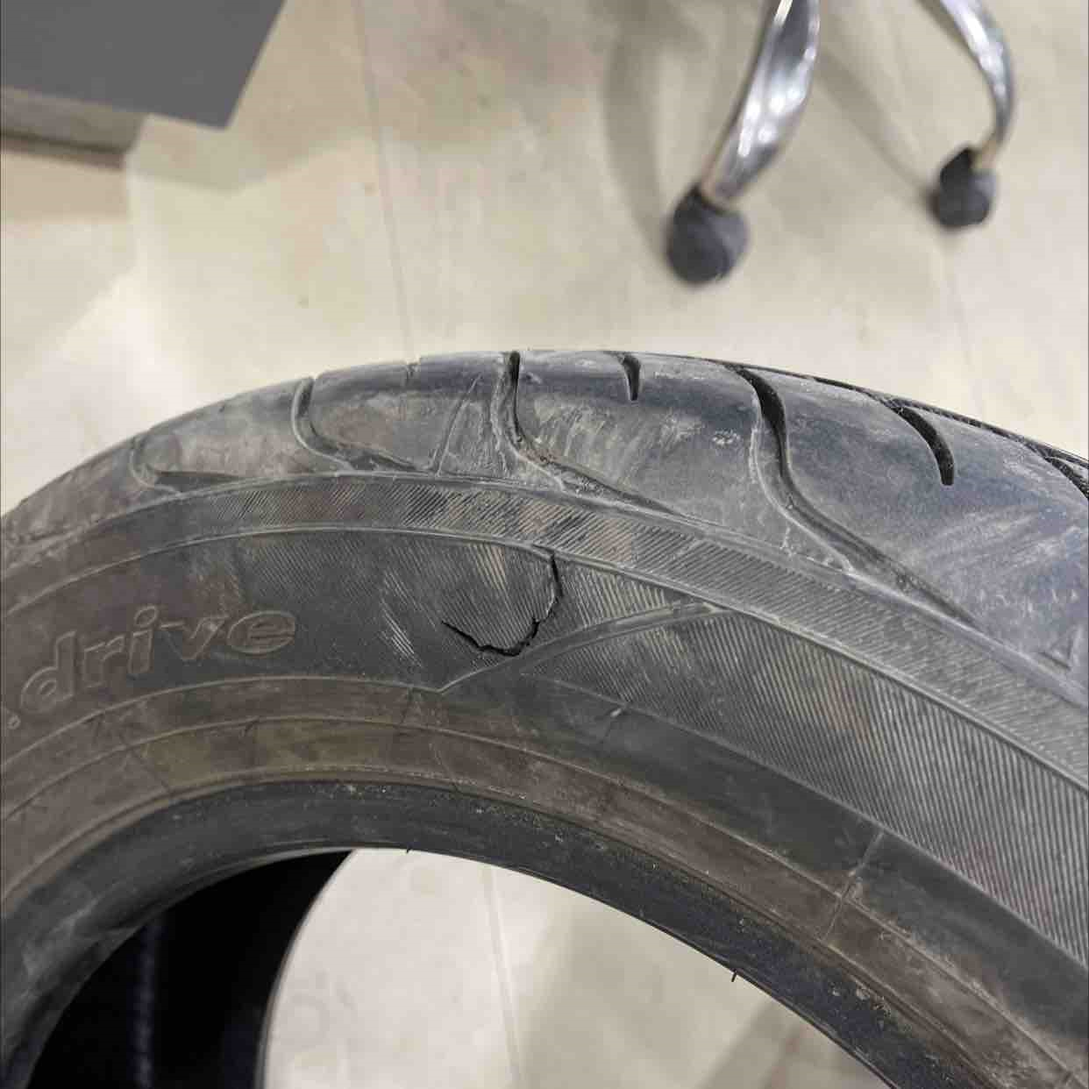cut: (425, 545, 572, 666)
